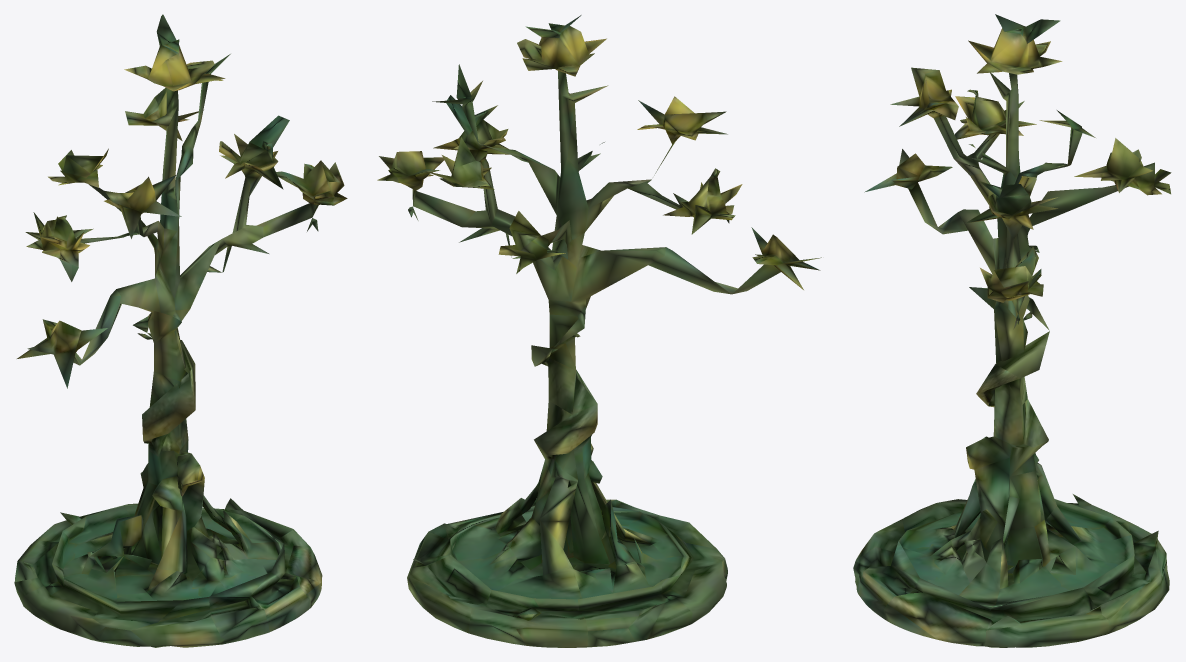
Rendered from s_tree_far.glb.
3 views of the same model, side by side, from view 1: azimuth 30°, elevation 25°; view 2: azimuth 150°, elevation 25°; view 3: azimuth 270°, elevation 25° (orthographic). The views are drawn at different scales.
Parts seen in each view (by area): view 1: tripo_node_06a83f6d-4b3f-4f1c-a72e-53ae970ba226; view 2: tripo_node_06a83f6d-4b3f-4f1c-a72e-53ae970ba226; view 3: tripo_node_06a83f6d-4b3f-4f1c-a72e-53ae970ba226.
Part boxes in pixels (bbox=[...]): tripo_node_06a83f6d-4b3f-4f1c-a72e-53ae970ba226: bbox=[14, 14, 347, 647]; tripo_node_06a83f6d-4b3f-4f1c-a72e-53ae970ba226: bbox=[377, 15, 821, 647]; tripo_node_06a83f6d-4b3f-4f1c-a72e-53ae970ba226: bbox=[853, 14, 1171, 647].
Bounding box in the file's own units: 0.6894 × 0.979 × 0.4965.
1 material, 1 textured.
